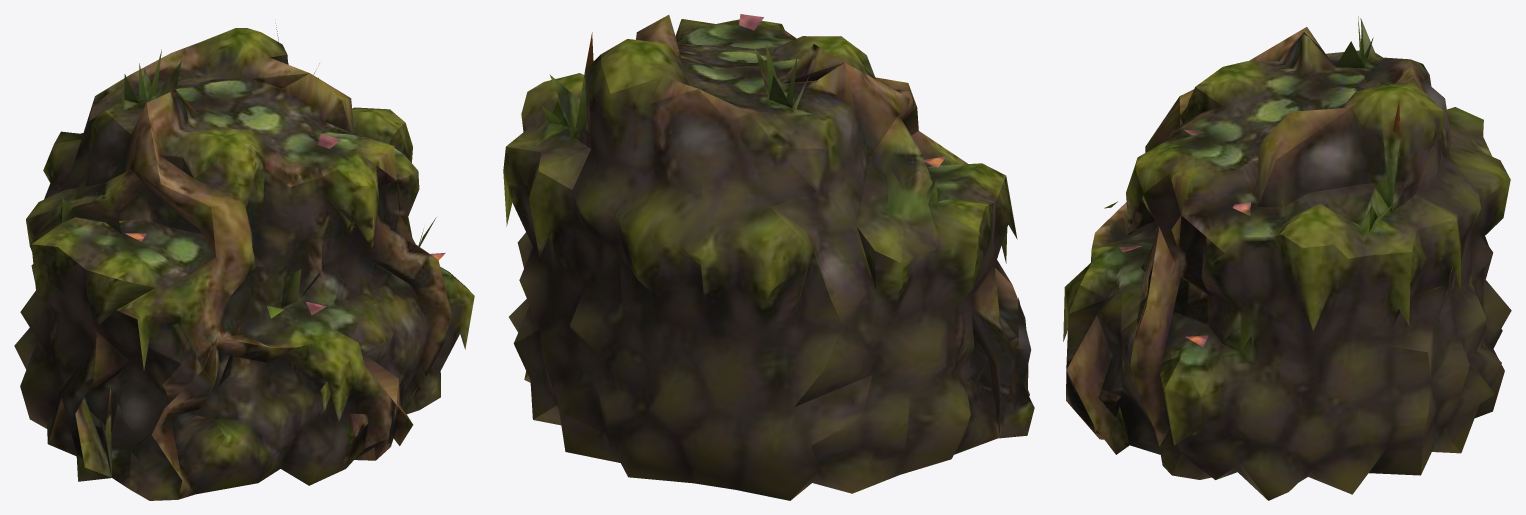
File: d_marais_massif.glb
3 views of the same model, side by side, from view 1: azimuth 30°, elevation 25°; view 2: azimuth 150°, elevation 25°; view 3: azimuth 270°, elevation 25° (orthographic). The views are drawn at different scales.
Visible parts, largest first — view 1: geometry_0; view 2: geometry_0; view 3: geometry_0.
Boxes of the visible parts, box(x1,y1,x2,y2) form: geometry_0: box(14, 23, 474, 500); geometry_0: box(503, 14, 1034, 500); geometry_0: box(1063, 16, 1511, 500).
Size of the model in its own units: 0.9817 by 0.8555 by 0.9168.
1 material, 1 textured.
